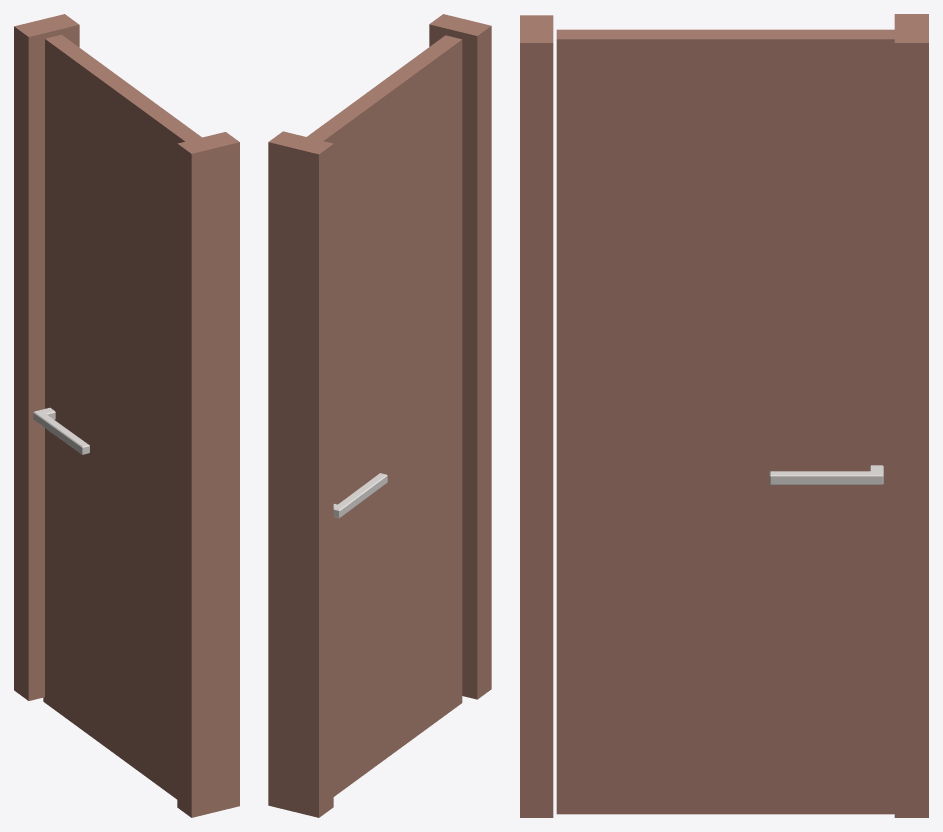
The model's file is Pintu.fbx.
The picture shows the model from 3 angles, left to right: view 1: azimuth 30°, elevation 25°; view 2: azimuth 150°, elevation 25°; view 3: azimuth 270°, elevation 25°; orthographic projection. The views are drawn at different scales.
Parts seen in each view (by area): view 1: Cube.015, Cube.019; view 2: Cube.015, Cube.019; view 3: Cube.015, Cube.019.
Boxes of the visible parts, left/top/right/bottom form: Cube.015: left=33, top=34, right=201, bottom=799; Cube.019: left=14, top=14, right=239, bottom=817; Cube.015: left=307, top=35, right=462, bottom=796; Cube.019: left=268, top=14, right=491, bottom=817; Cube.015: left=556, top=29, right=894, bottom=814; Cube.019: left=520, top=14, right=928, bottom=817.
Size of the model in its own units: 16.91 by 208 by 98.45.
